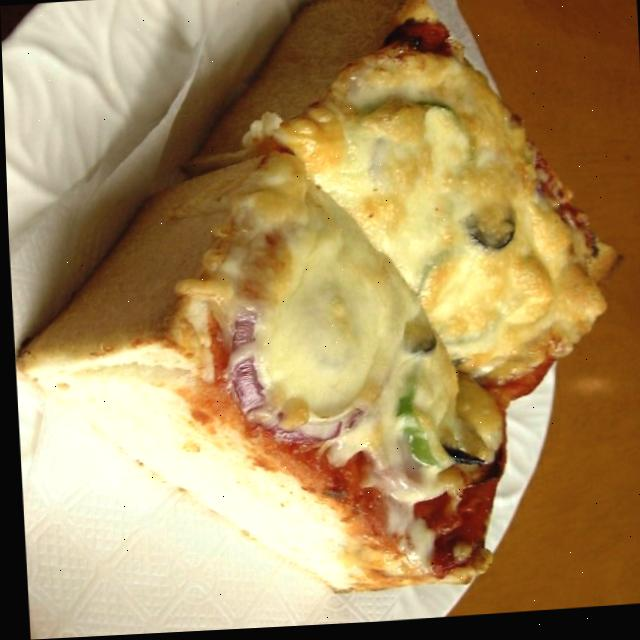面包点心: (0, 0, 636, 618)
